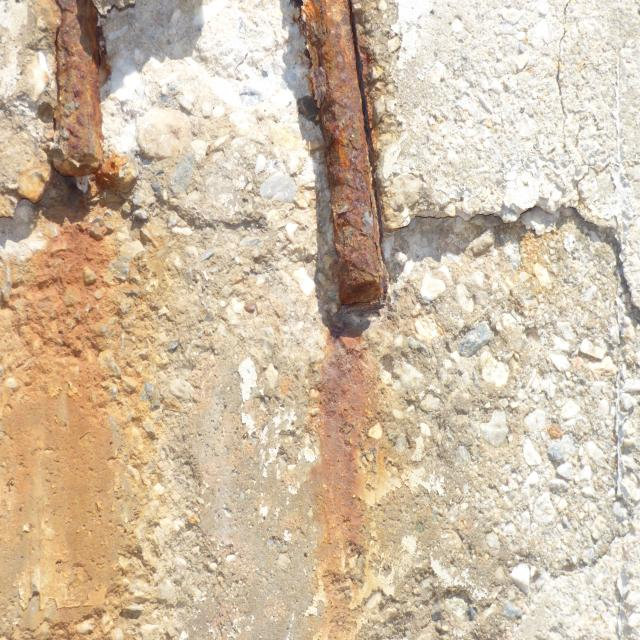corrosion: (0, 0, 201, 640), (268, 0, 438, 640)
